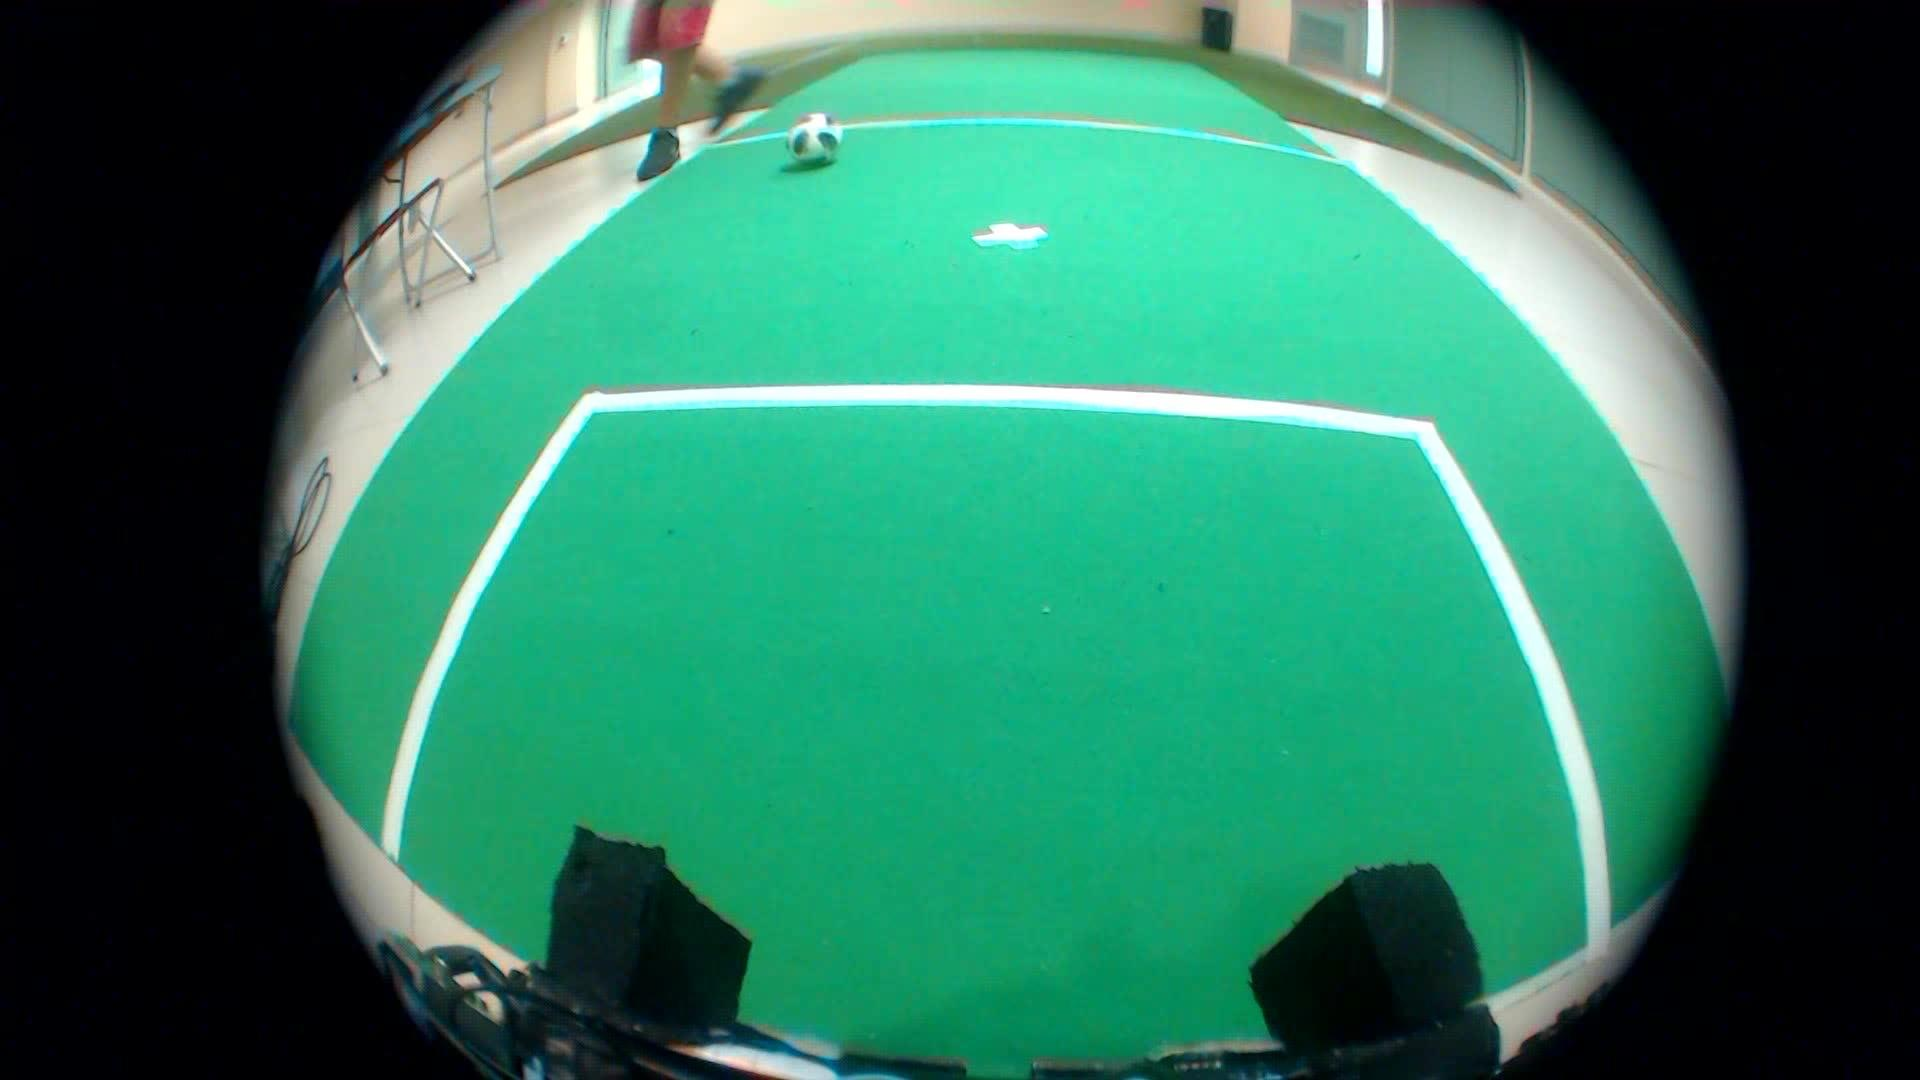ball: (771, 98, 849, 183)
